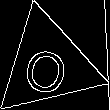O_N: (21, 34, 75, 95)
